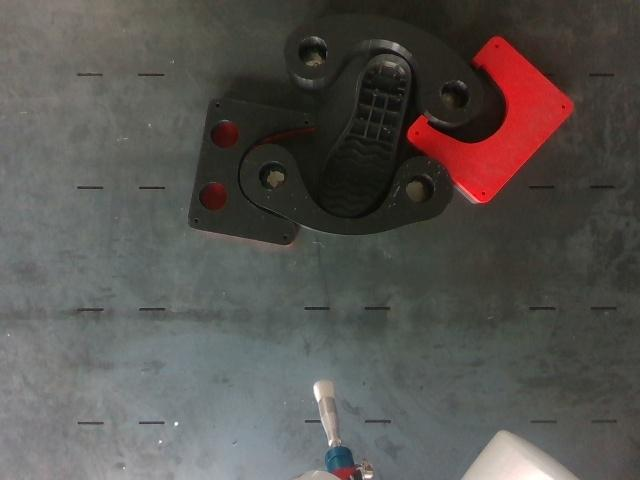shoes: (321, 57, 409, 215)
